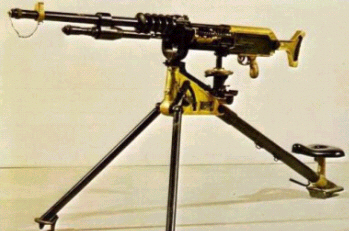rifle: (8, 5, 339, 227)
